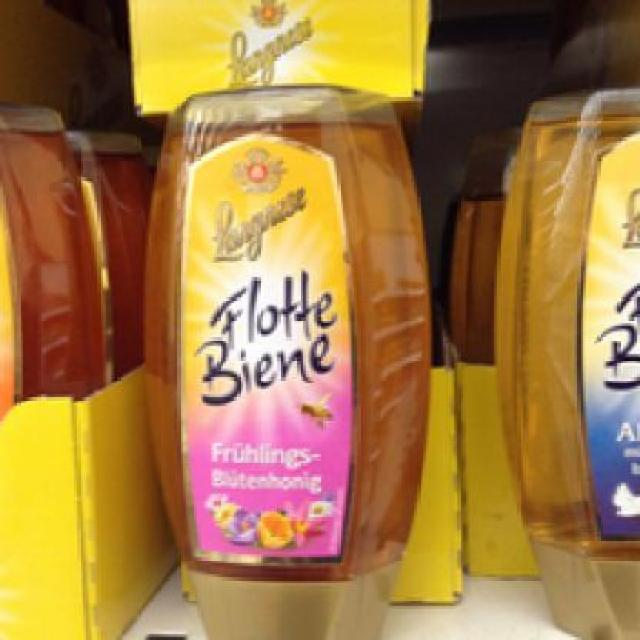Honey: (142, 88, 415, 638)
